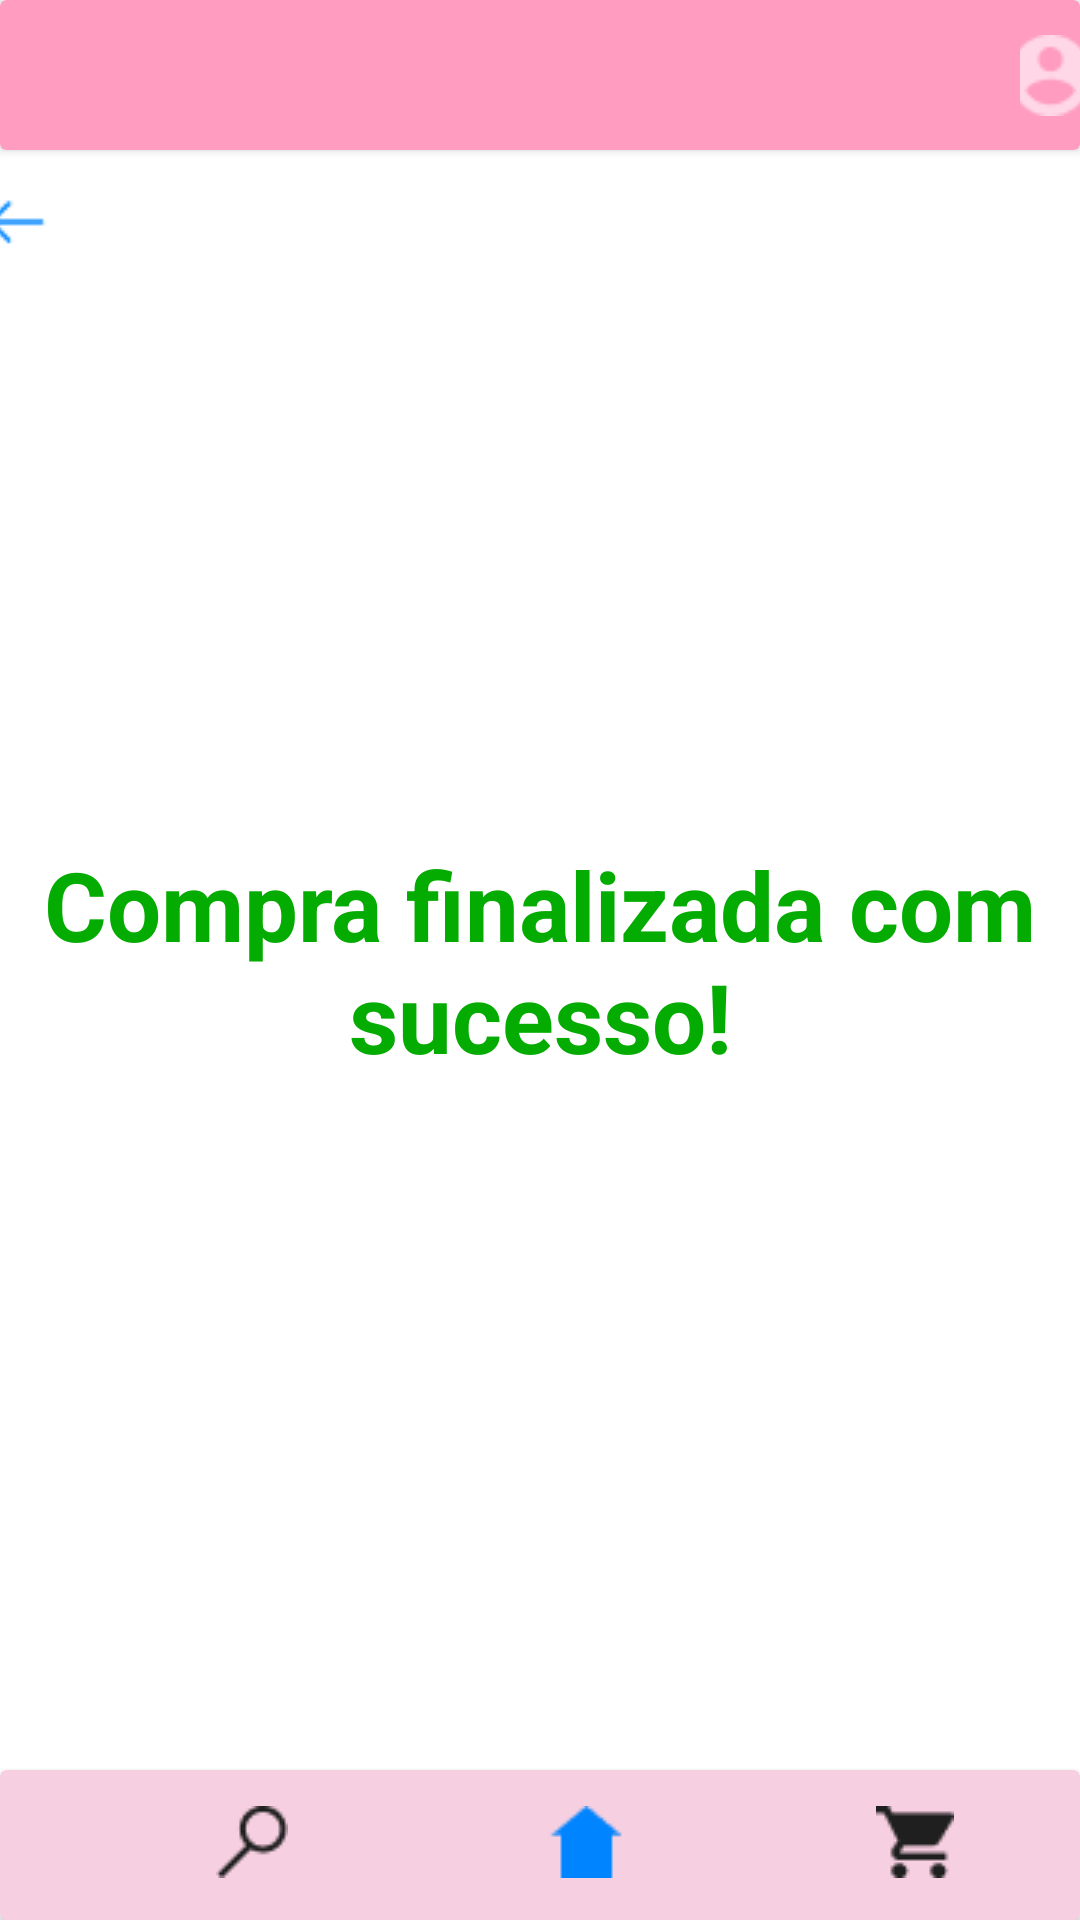

Where icons sit on this 1080px x 1920px app screen, as (x1, y1, x2, y2):
Carrinho: (876, 1806, 954, 1878)
Home: (551, 1806, 622, 1878)
Login: (1020, 35, 1080, 116)
Pesquisar: (216, 1806, 288, 1878)
